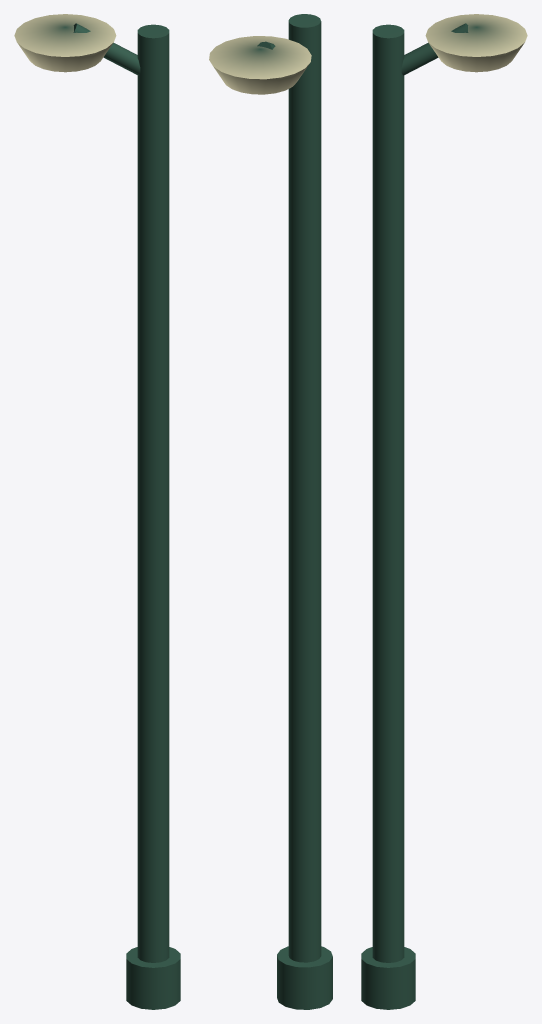
The model's file is Park_Lamp.fbx.
3 views of the same model, side by side, from view 1: azimuth 90°, elevation 25°; view 2: azimuth 150°, elevation 25°; view 3: azimuth 270°, elevation 25° (orthographic).
Visible parts, largest first — view 1: Park_Lamp; view 2: Park_Lamp; view 3: Park_Lamp.
Part boxes in pixels (<box>): Park_Lamp: <box>14,14,180,1009</box>; Park_Lamp: <box>209,14,332,1009</box>; Park_Lamp: <box>361,14,527,1009</box>.
Size of the model in its own units: 4.4 by 46.35 by 7.17.
